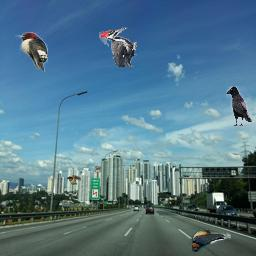Crow: (226, 86, 252, 126)
Swallow: (191, 229, 231, 253), (67, 175, 81, 185)
Woodpecker: (99, 27, 137, 67), (15, 32, 48, 72)
